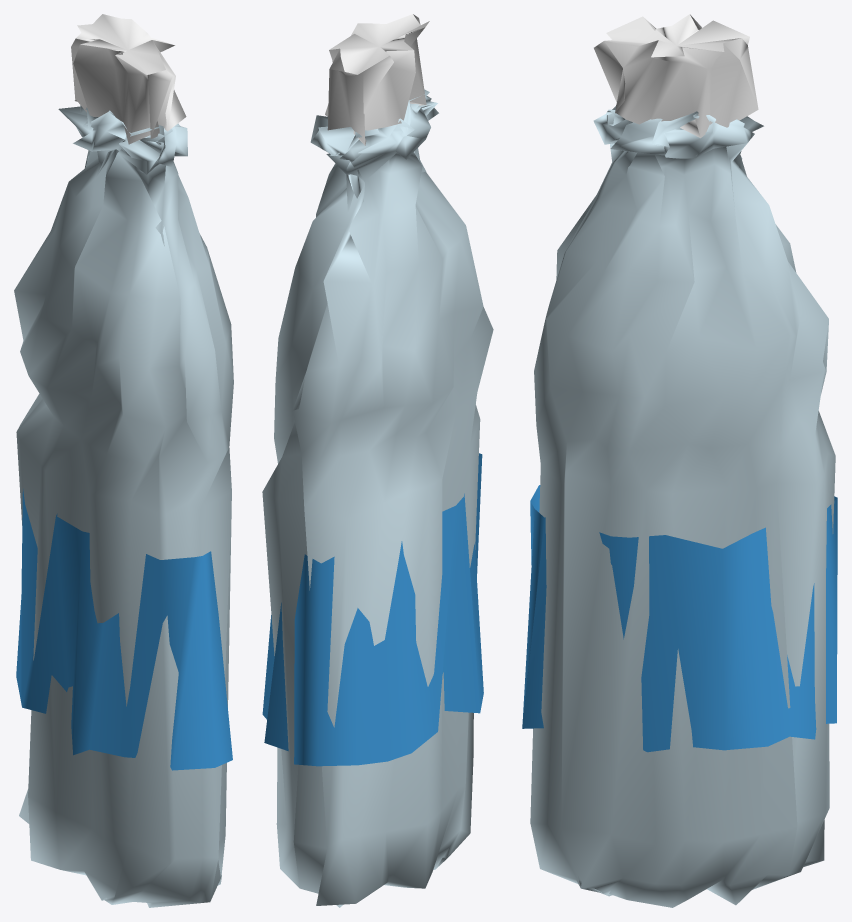
The model's file is item_pet_crushed.fbx.
The picture shows the model from 3 angles, left to right: view 1: azimuth 30°, elevation 25°; view 2: azimuth 150°, elevation 25°; view 3: azimuth 270°, elevation 25°; orthographic projection.
Parts seen in each view (by area): view 1: item_pet_crushed; view 2: item_pet_crushed; view 3: item_pet_crushed.
Boxes of the visible parts, x1=… form: item_pet_crushed: x1=14, y1=14, x2=233, y2=907; item_pet_crushed: x1=262, y1=14, x2=493, y2=907; item_pet_crushed: x1=522, y1=14, x2=837, y2=907.
Bounding box in the file's own units: 0.0441 × 0.2216 × 0.074.
